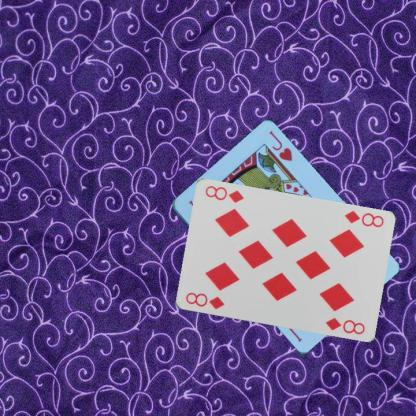8d: (182, 289, 226, 311), (341, 208, 385, 229)
